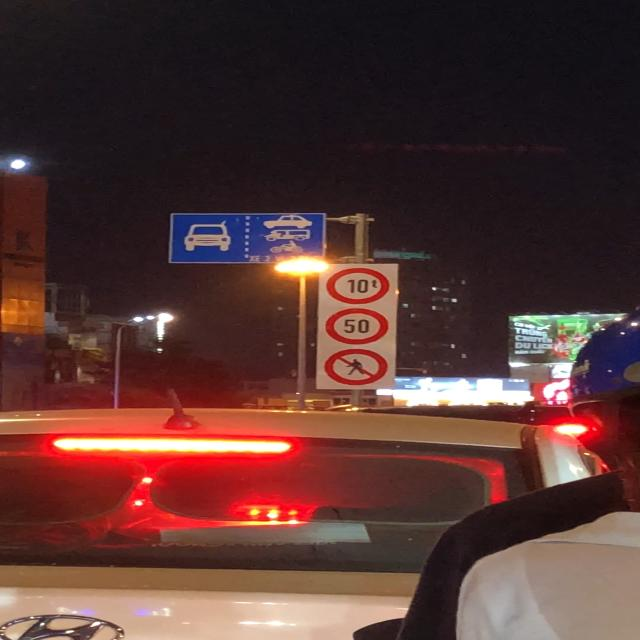Bien bao cam nguoi di bo: (322, 347, 390, 388)
Bien bao toc do toi da cho phep: (324, 306, 390, 347)
